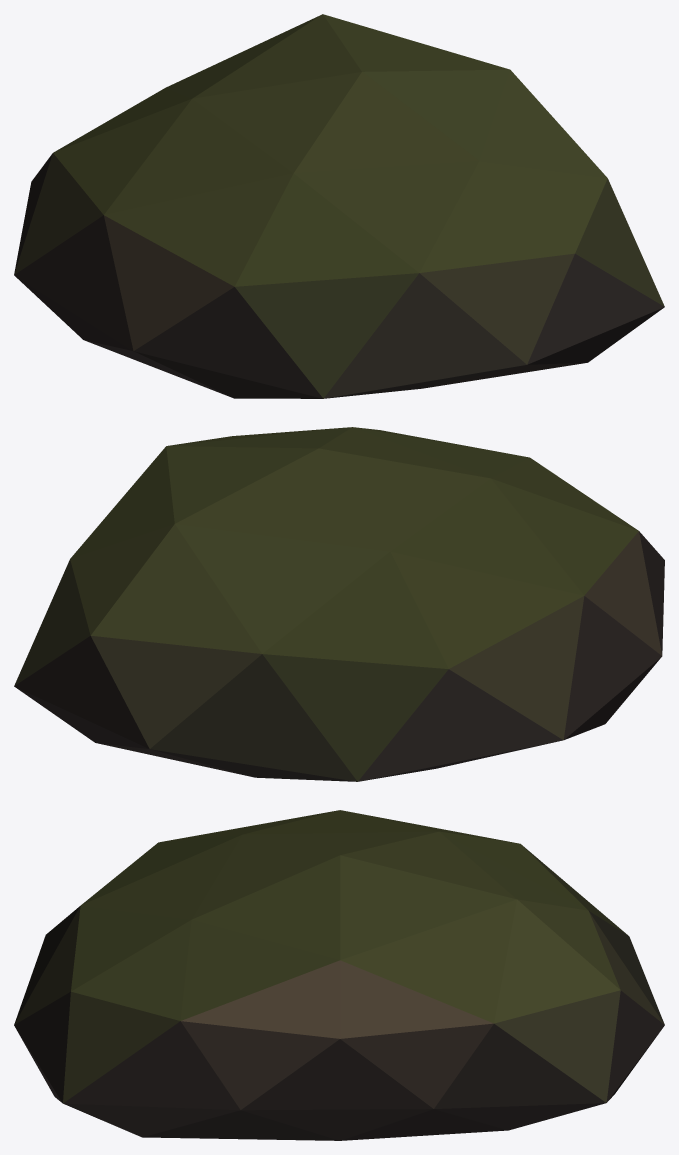
File: boulder_small.glb
3 views of the same model, one above another, from view 1: azimuth 30°, elevation 25°; view 2: azimuth 150°, elevation 25°; view 3: azimuth 270°, elevation 25° (orthographic). The views are drawn at different scales.
Visible parts, largest first — view 1: boulder_small; view 2: boulder_small; view 3: boulder_small.
Part boxes in pixels (box(x1,y1,x2,y2)): boulder_small: box(14, 14, 664, 398); boulder_small: box(14, 427, 664, 781); boulder_small: box(14, 810, 664, 1140).
Size of the model in its own units: 0.7256 by 0.3349 by 0.8823.
